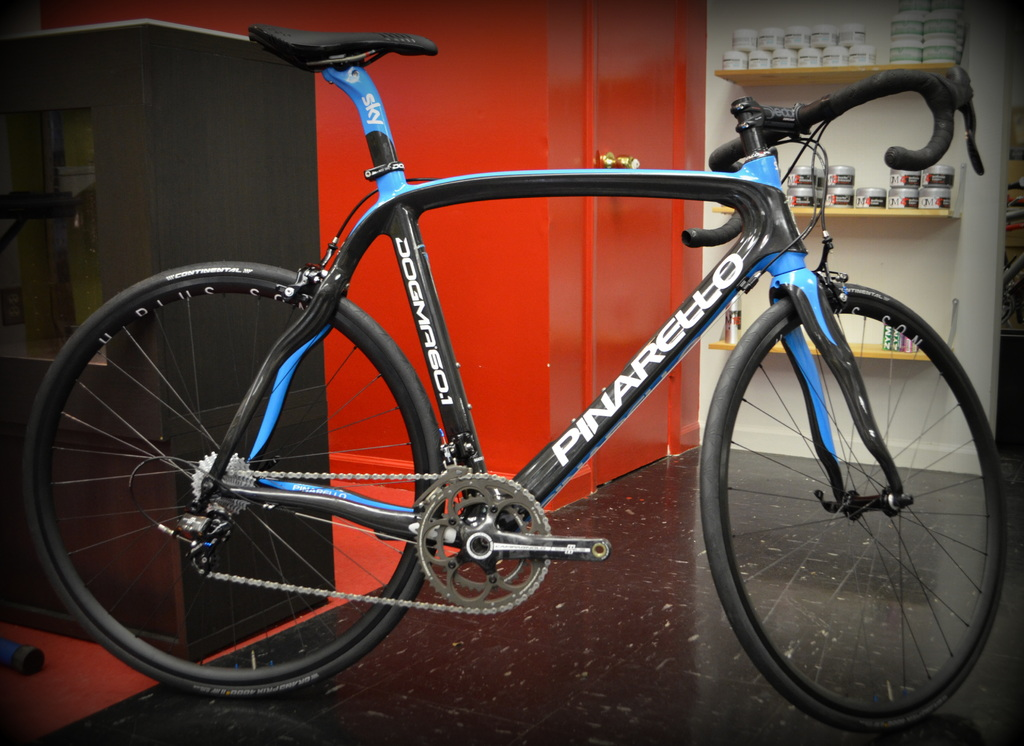Bike_away: (79, 17, 963, 703)
